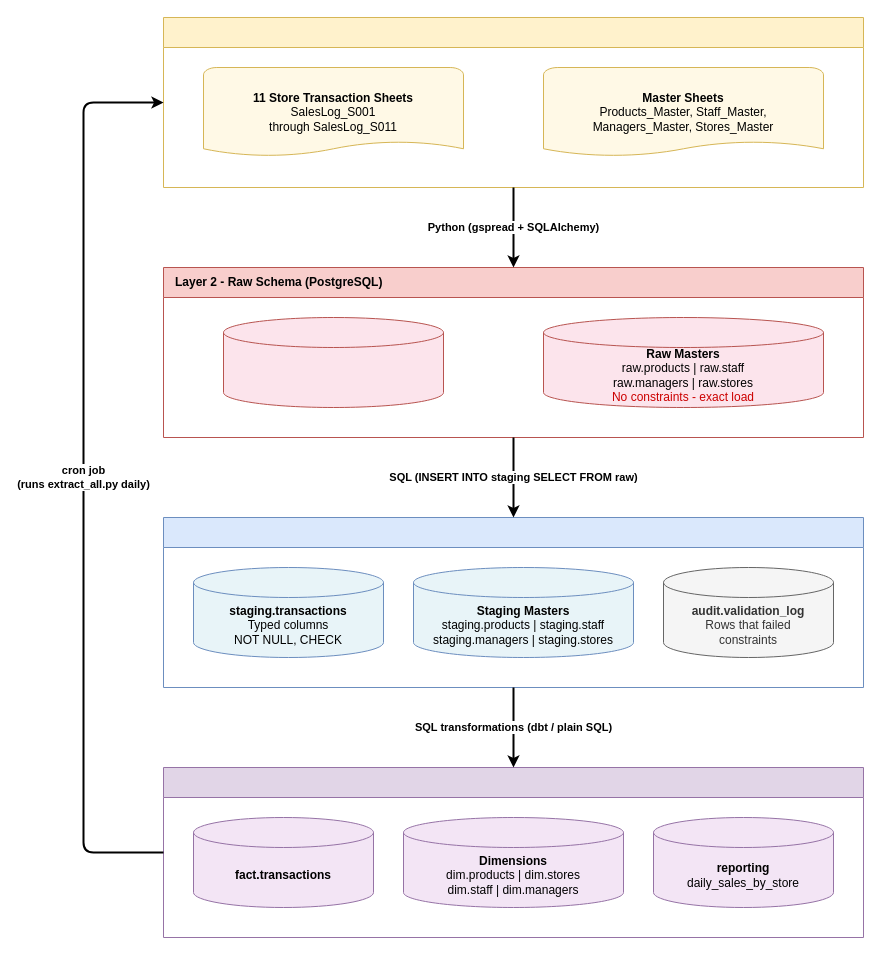
Image size: 881x955. Some labels were removed from this diagram. Here are the shapes that lost their labels. From the top down, the box of each, then its label:
(162, 16, 864, 188): Layer 1 - Source (Google Drive)
(222, 316, 444, 408): raw.transactions All 11 stores All columns TEXT
(162, 516, 864, 688): Layer 3 — Staging Schema (PostgreSQL)
(162, 766, 864, 938): Layer 4 — Analytics Layer (PostgreSQL)
